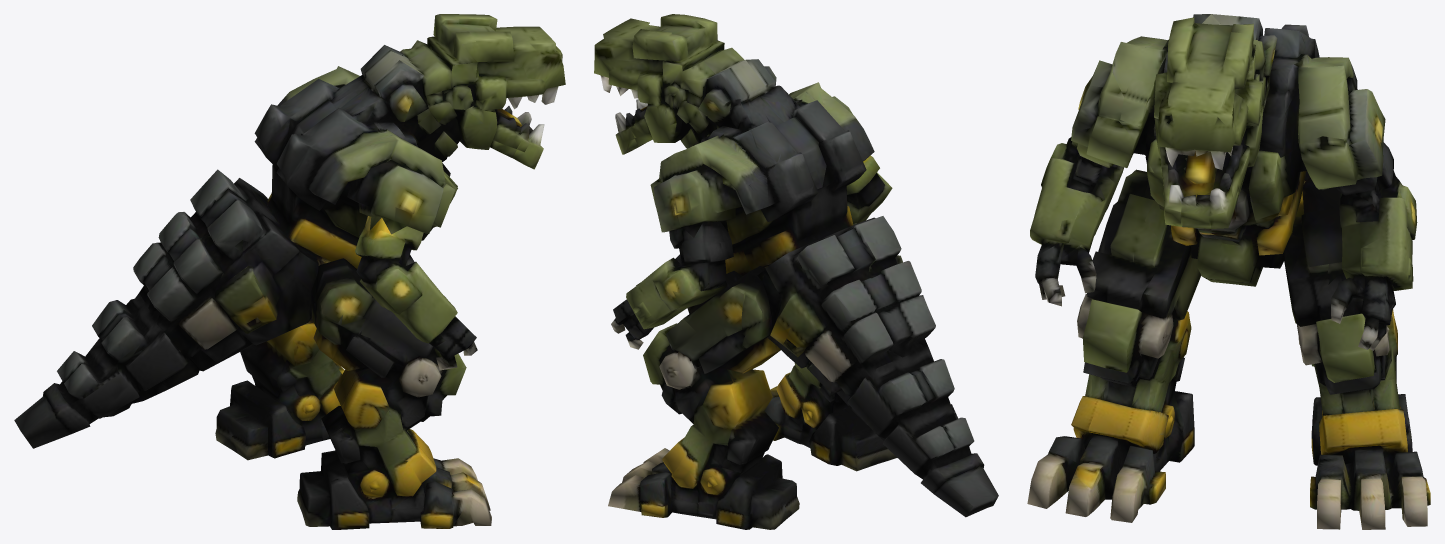
Rendered from tyranosauron.glb.
The picture shows the model from 3 angles, left to right: view 1: azimuth 30°, elevation 25°; view 2: azimuth 150°, elevation 25°; view 3: azimuth 270°, elevation 25°; orthographic projection. The views are drawn at different scales.
Parts seen in each view (by area): view 1: tripo_part_0, tripo_part_5, tripo_part_3, tripo_part_4, tripo_part_1, tripo_part_6, tripo_part_7; view 2: tripo_part_0, tripo_part_1, tripo_part_3, tripo_part_4, tripo_part_2, tripo_part_5, tripo_part_6, tripo_part_7; view 3: tripo_part_0, tripo_part_5, tripo_part_1, tripo_part_3, tripo_part_2, tripo_part_6.
Boxes of the visible parts, box(x1,y1,x2,y2) form: tripo_part_0: box(133, 45, 461, 371); tripo_part_5: box(297, 258, 491, 529); tripo_part_3: box(400, 14, 565, 169); tripo_part_4: box(14, 293, 201, 448); tripo_part_1: box(215, 318, 344, 460); tripo_part_6: box(355, 216, 477, 370); tripo_part_7: box(277, 91, 357, 160); tripo_part_0: box(650, 59, 935, 407); tripo_part_1: box(608, 266, 799, 529); tripo_part_3: box(594, 14, 744, 154); tripo_part_4: box(847, 342, 998, 517); tripo_part_2: box(611, 221, 733, 349); tripo_part_5: box(764, 223, 896, 471); tripo_part_6: box(846, 155, 892, 223); tripo_part_7: box(762, 106, 826, 189); tripo_part_0: box(1071, 14, 1385, 286); tripo_part_5: box(1027, 169, 1201, 522); tripo_part_1: box(1283, 177, 1430, 529); tripo_part_3: box(1154, 14, 1265, 228); tripo_part_2: box(1331, 142, 1417, 350); tripo_part_6: box(1030, 137, 1123, 306).
Size of the model in its own units: 0.9813 by 0.8633 by 0.6212.
1 material, 1 textured.
